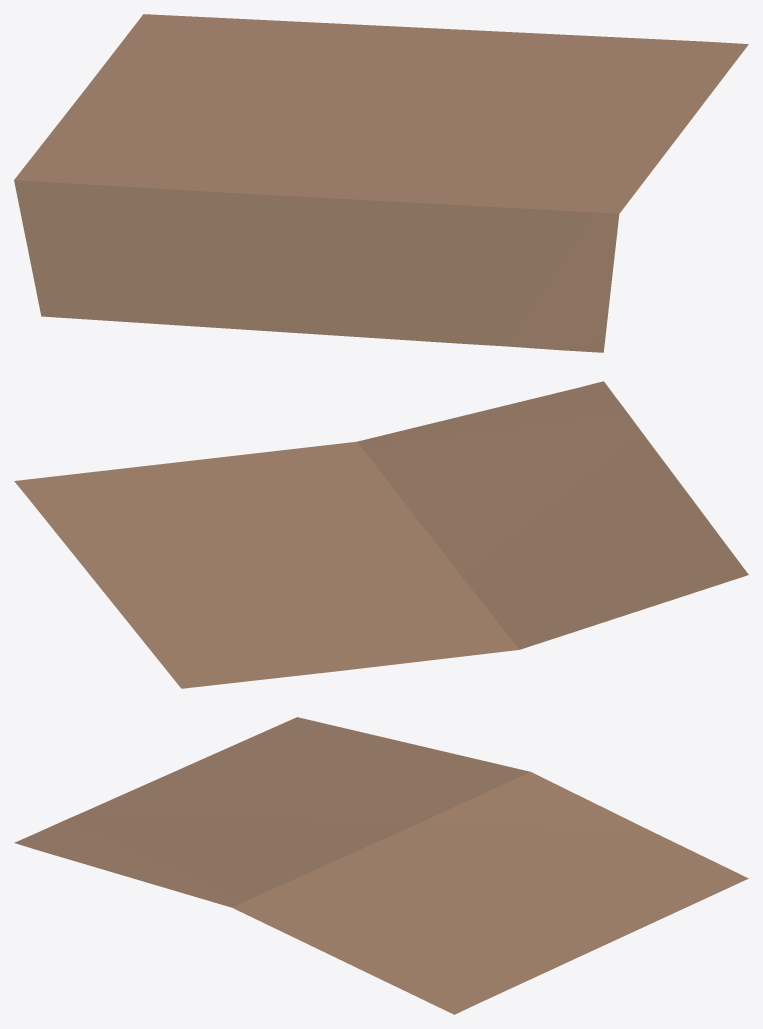
Rendered from farm_-42_-42_soil.glb.
The picture shows the model from 3 angles, top to bottom: view 1: azimuth 30°, elevation 25°; view 2: azimuth 150°, elevation 25°; view 3: azimuth 270°, elevation 25°; orthographic projection. The views are drawn at different scales.
Visible parts, largest first — view 1: geometry_0; view 2: geometry_0; view 3: geometry_0.
Boxes of the visible parts, x1,y1,x2,y2 form: geometry_0: [14, 14, 748, 352]; geometry_0: [14, 381, 748, 688]; geometry_0: [14, 717, 748, 1014].
Bounding box in the file's own units: 56.58 × 2.08 × 59.54.
